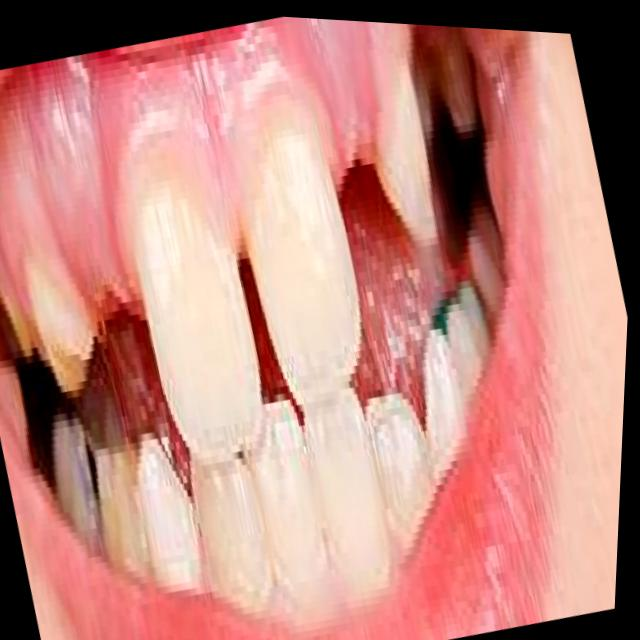cariess: (431, 222, 499, 352)
hypodontia: (308, 54, 415, 329), (201, 116, 292, 408), (73, 266, 169, 436)
